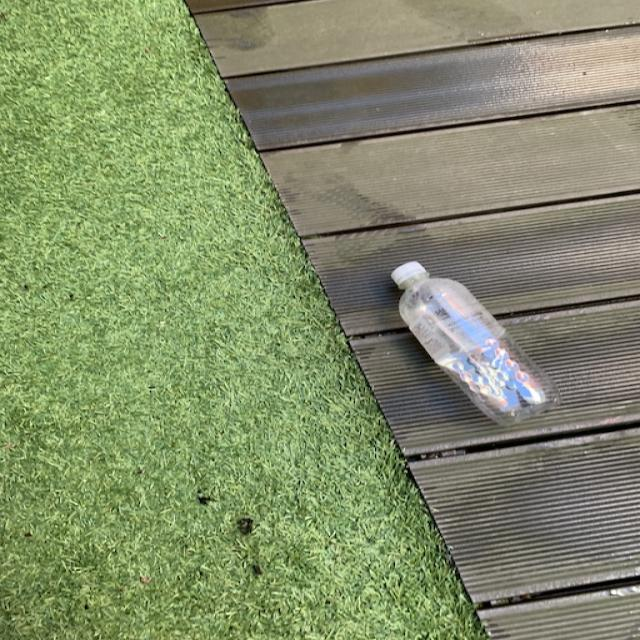Waste: (392, 261, 560, 426)
